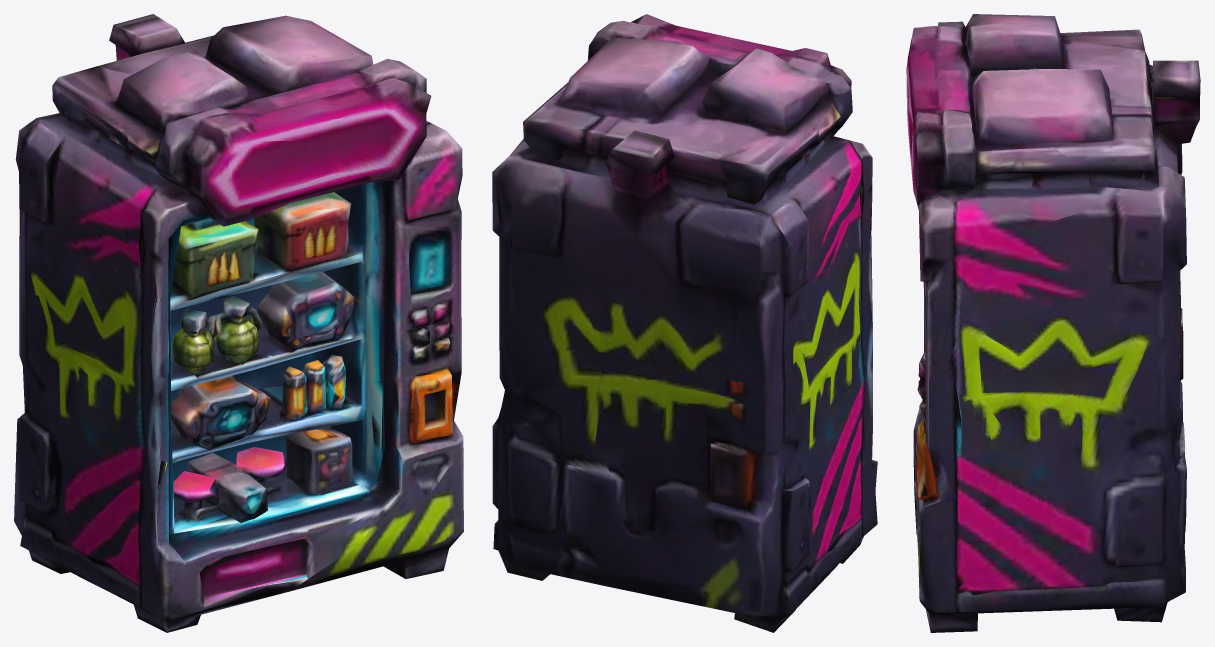
Rendered from GW_INT_vending_shop.glb.
3 renders of one model, left to right at view 1: azimuth 30°, elevation 25°; view 2: azimuth 150°, elevation 25°; view 3: azimuth 270°, elevation 25°, orthographic. The views are drawn at different scales.
Visible parts, largest first — view 1: tripo_node_57c8e6f1-ac3d-4d7b-82b2-b3eb022d3559; view 2: tripo_node_57c8e6f1-ac3d-4d7b-82b2-b3eb022d3559; view 3: tripo_node_57c8e6f1-ac3d-4d7b-82b2-b3eb022d3559.
Part boxes in pixels (x1,y1,x2,y2): tripo_node_57c8e6f1-ac3d-4d7b-82b2-b3eb022d3559: (14, 14, 463, 632); tripo_node_57c8e6f1-ac3d-4d7b-82b2-b3eb022d3559: (492, 14, 877, 632); tripo_node_57c8e6f1-ac3d-4d7b-82b2-b3eb022d3559: (906, 14, 1200, 632).
Bounding box in the file's own units: 0.6629 × 1 × 0.5218.
Materials: 1 (1 with a texture image).
